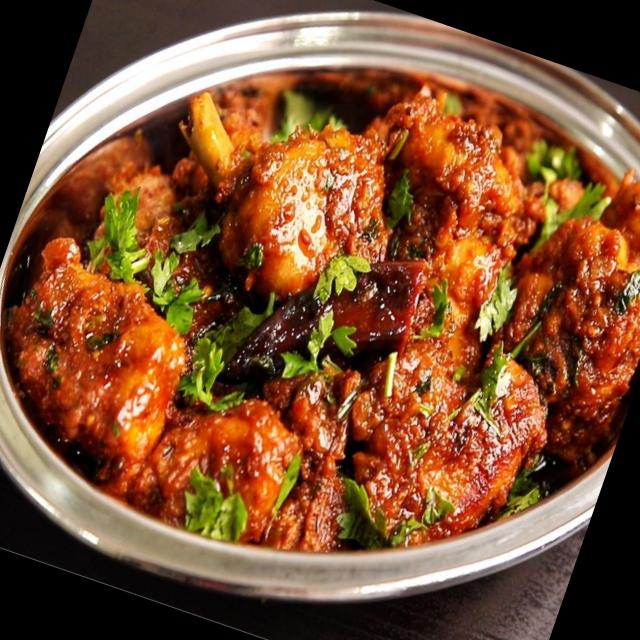chicken: (5, 3, 640, 622)
